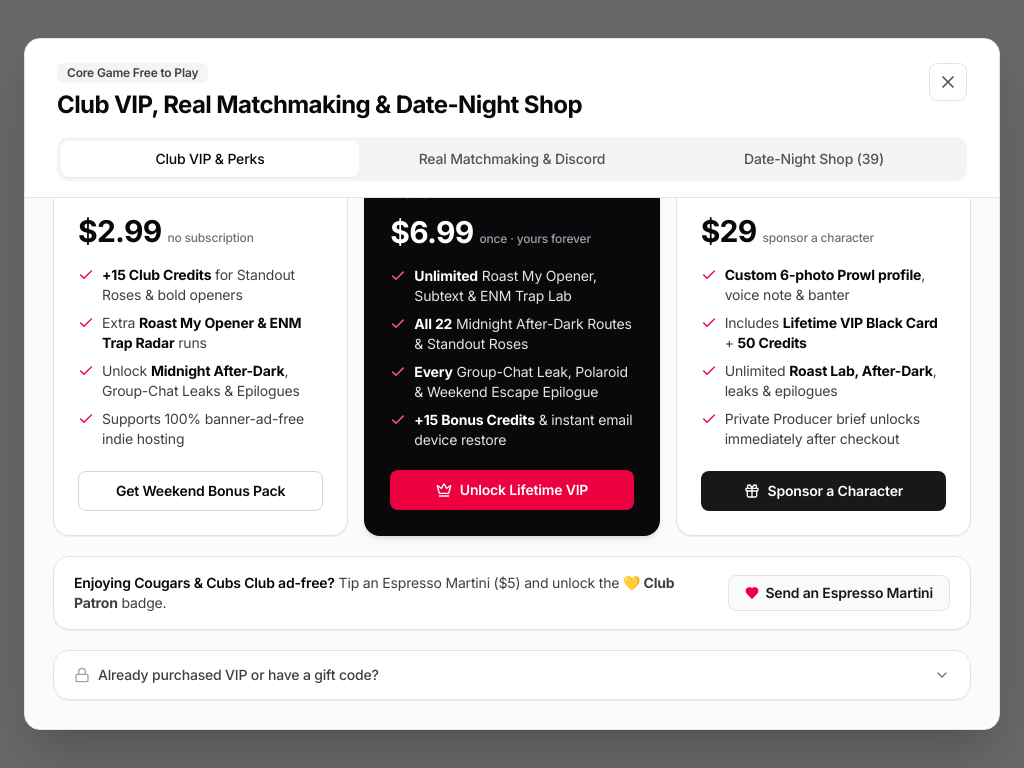
v35 Boutique Security (Paid-Session-Only Cameo Briefs) & Consumer Romance-Sim VIP UX › removes the hackable Stripe checkout email brief form from Waitlist & Invite and hides cameo brief composer unless a verified $29 sessionId is active
The image size is (1024, 768).
Later steps or results of the test are not shown.
(page scrolled)
Expected: the dialog named "Cougars & Cubs Club VIP & Creator Lounge" shows "Lifetime VIP Black Card", [390,153,544,202]
Expected: the link "Get Weekend Bonus Pack" does not show "$"
Click the button "Already purchased VIP or have a gift code?": coordinates (238, 675) [54,651,970,699]
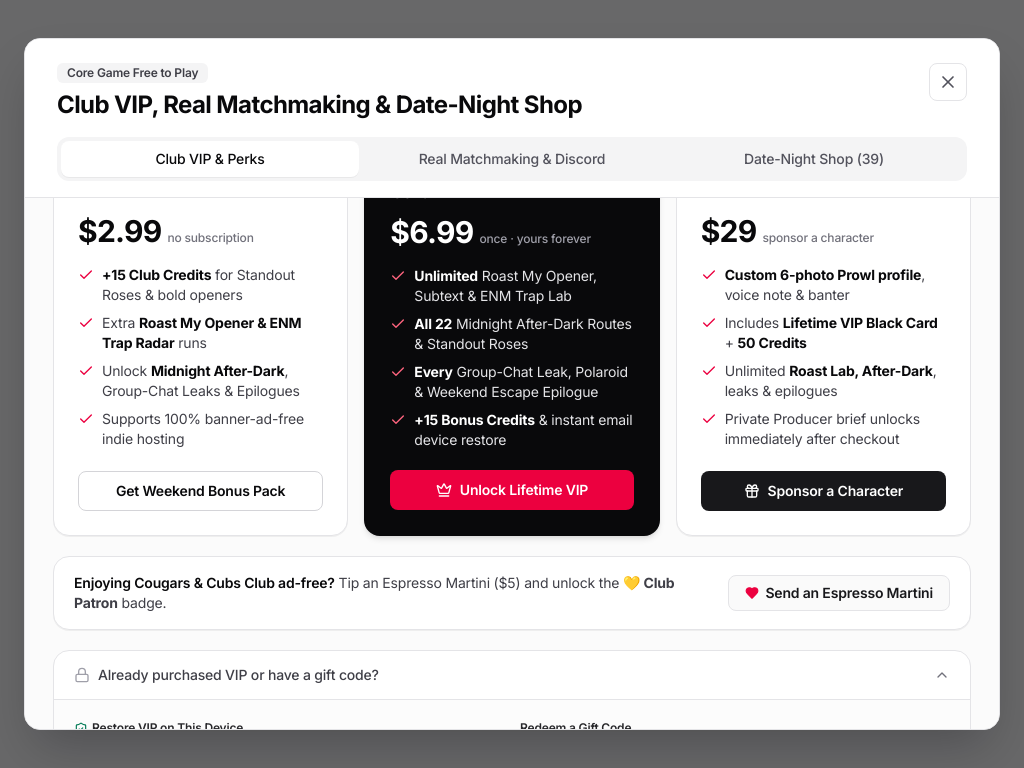
Click the button "Real Matchmaking & Discord": coordinates (512, 159) [363,141,661,177]
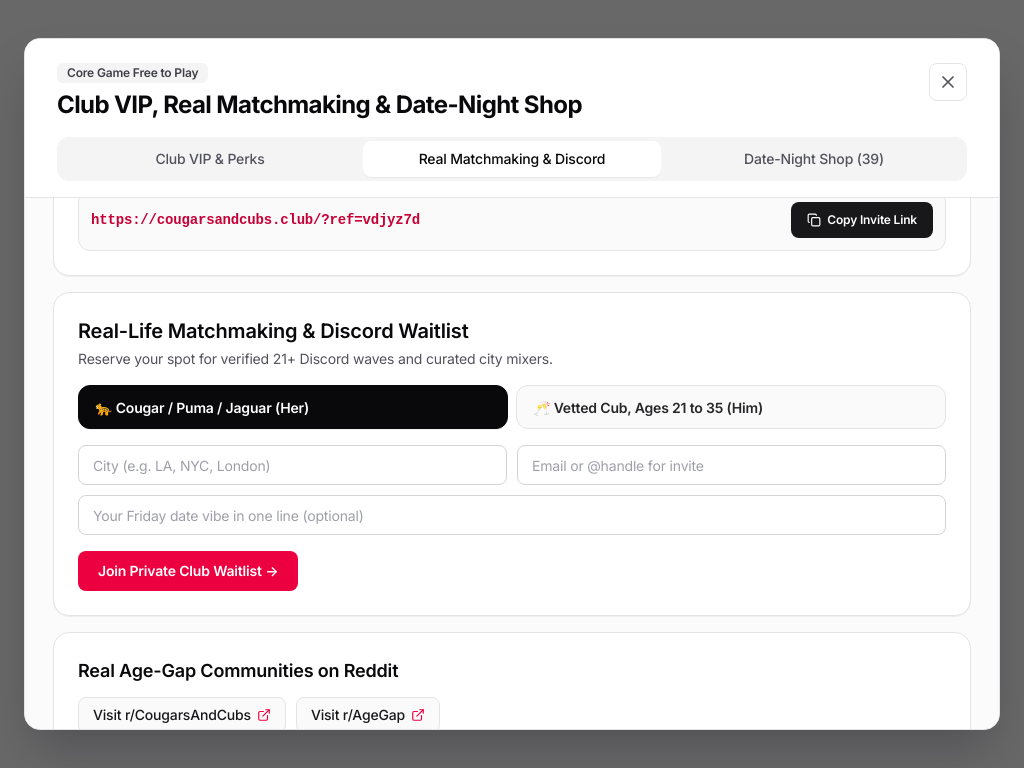
Now the button "🐆 Cougar / Puma / Jaguar (Her)" is shown, box [78,385,508,429]
Now the button "🥂 Vetted Cub, Ages 21 to 35 (Him)" is shown, box [516,385,946,429]
Now the button "Join Private Club Waitlist →" is shown, box [78,551,298,591]
